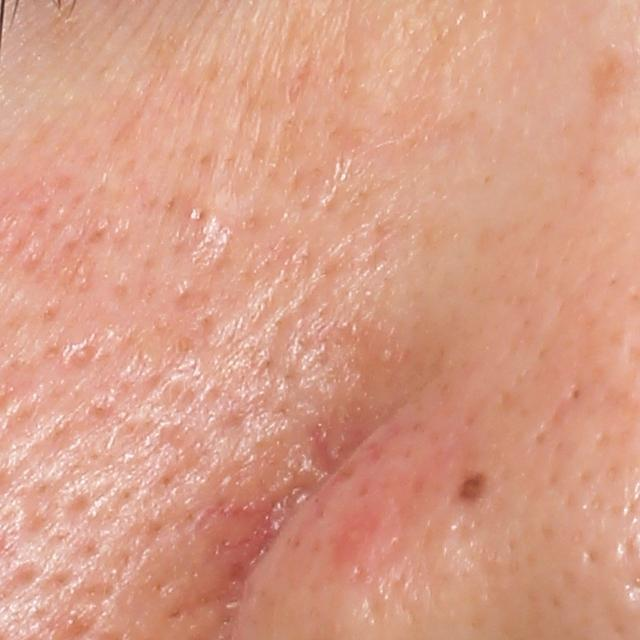nevus: (457, 468, 491, 503)
